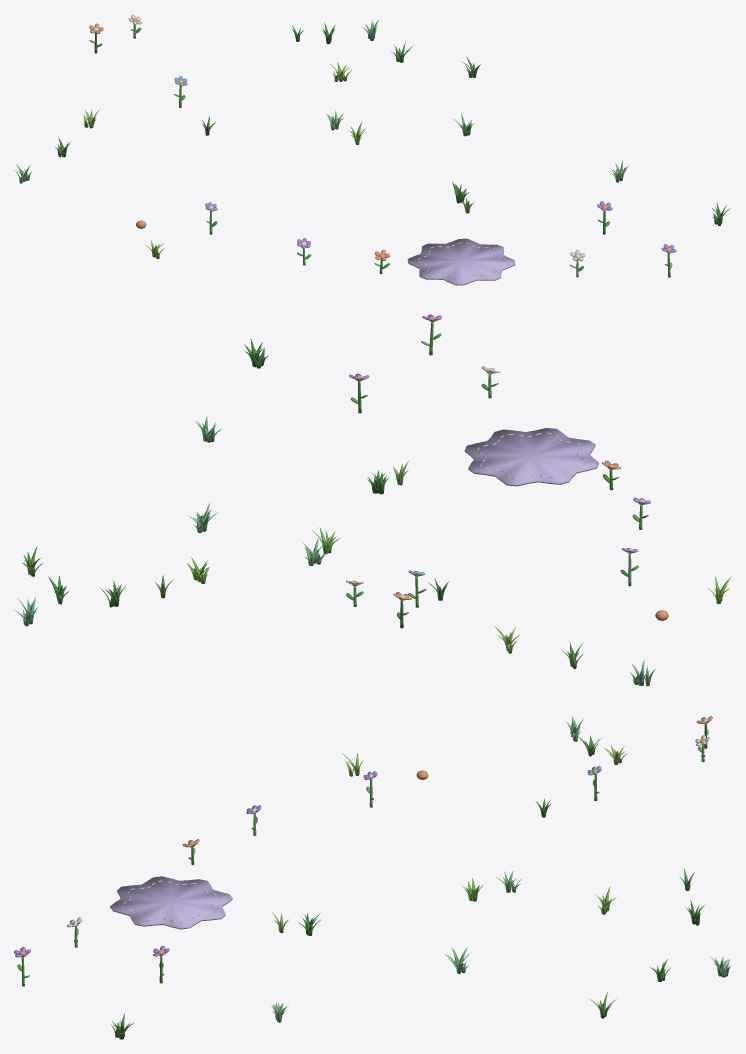
The model's file is W3_FloraRing_11_11.fbx.
3 renders of one model, top to bottom at view 1: azimuth 30°, elevation 25°; view 2: azimuth 150°, elevation 25°; view 3: azimuth 270°, elevation 25°, orthographic. The views are drawn at different scales.
Parts seen in each view (by area): view 1: W3_FloraRing_11_11; view 2: W3_FloraRing_11_11; view 3: W3_FloraRing_11_11.
Part boxes in pixels (x1,y1,x2,y2): W3_FloraRing_11_11: (15,14,730,285); W3_FloraRing_11_11: (15,314,731,686); W3_FloraRing_11_11: (14,716,730,1039).
Size of the model in its own units: 3.75 by 0.7064 by 3.94.
